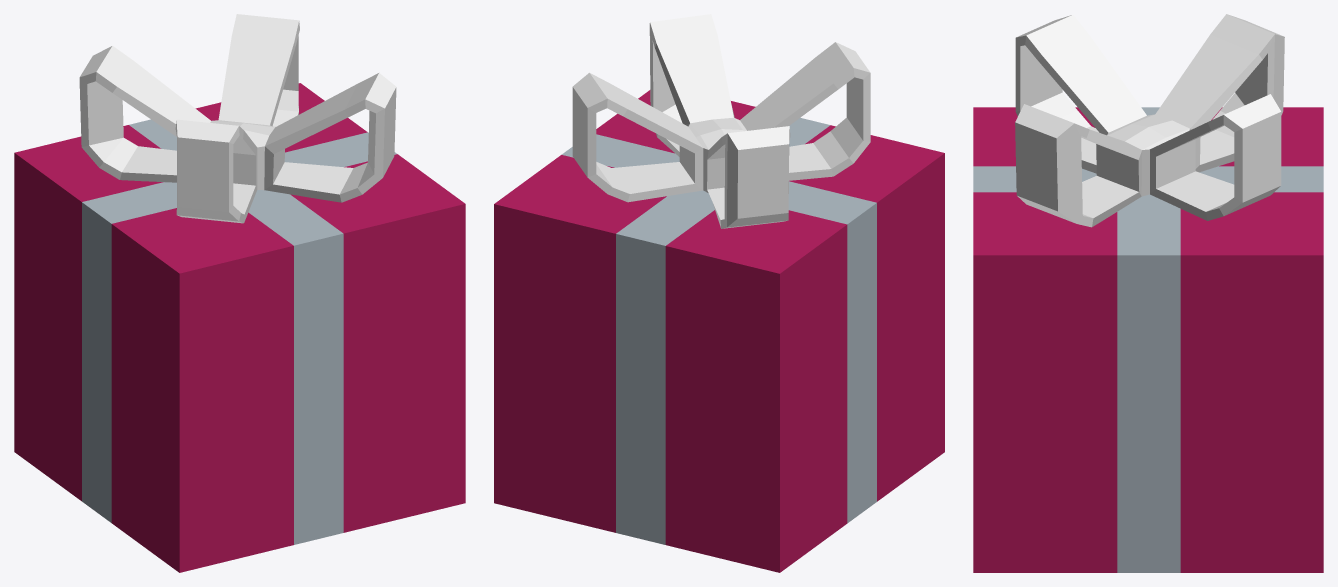
File: Gift_Med.001.fbx
3 renders of one model, left to right at view 1: azimuth 30°, elevation 25°; view 2: azimuth 150°, elevation 25°; view 3: azimuth 270°, elevation 25°, orthographic. The views are drawn at different scales.
Parts seen in each view (by area): view 1: Gift_Med.001; view 2: Gift_Med.001; view 3: Gift_Med.001.
Boxes of the visible parts, <box> form: Gift_Med.001: <box>14,14,465,572</box>; Gift_Med.001: <box>494,14,944,572</box>; Gift_Med.001: <box>973,14,1323,572</box>.
Size of the model in its own units: 75.29 by 103 by 75.29.
